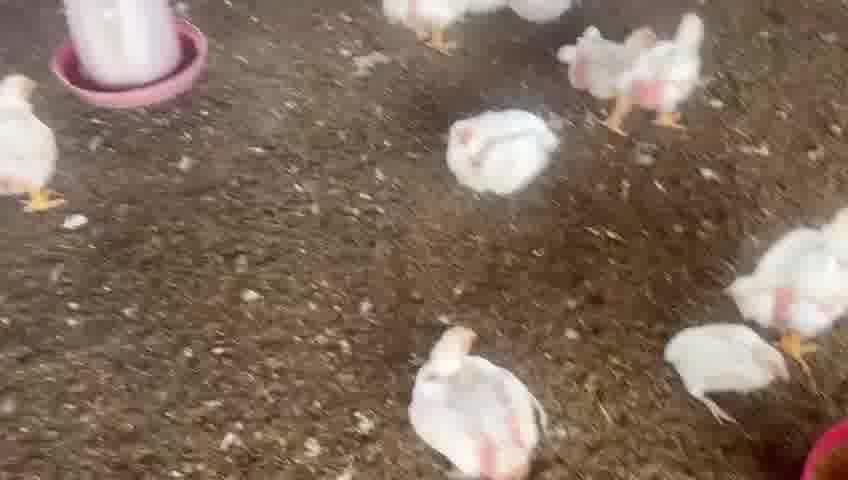AbNormal: (646, 309, 798, 432)
Normal: (394, 316, 557, 472), (731, 204, 848, 332), (434, 104, 570, 203), (636, 14, 717, 127), (560, 11, 649, 94)
